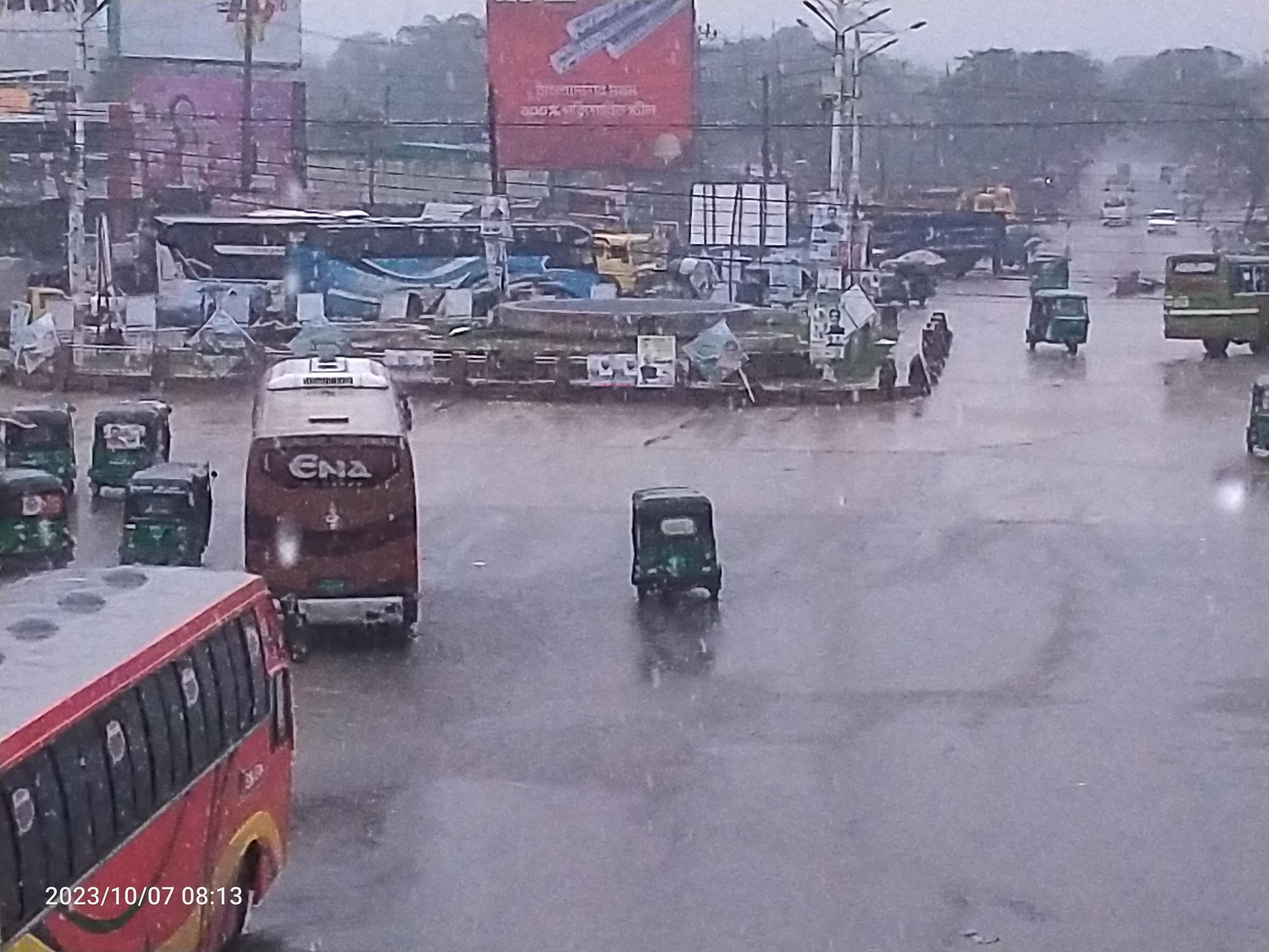Bus: (0, 544, 313, 952), (222, 323, 440, 674), (308, 208, 612, 350), (113, 195, 311, 343), (1153, 234, 1269, 379)
Car: (1138, 198, 1195, 249), (1095, 182, 1143, 239)
Truck: (855, 180, 1011, 290), (583, 213, 687, 297)
